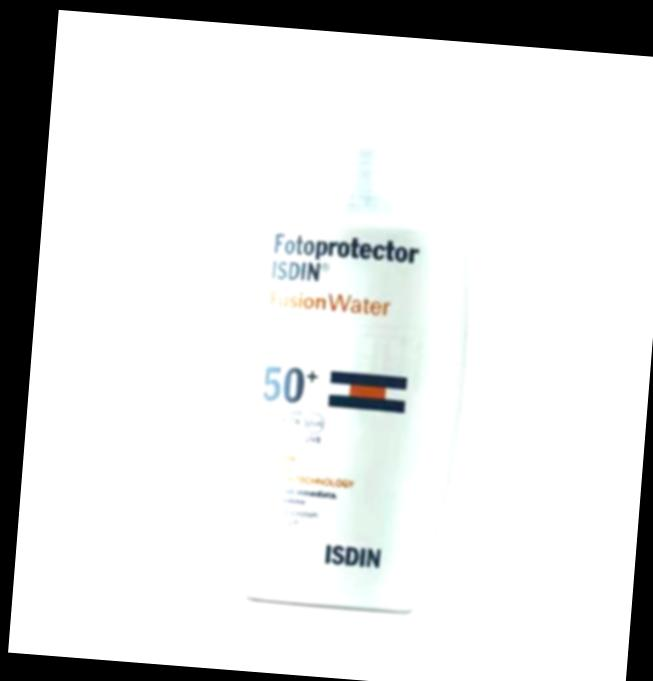cosmetic: (225, 87, 474, 618)
